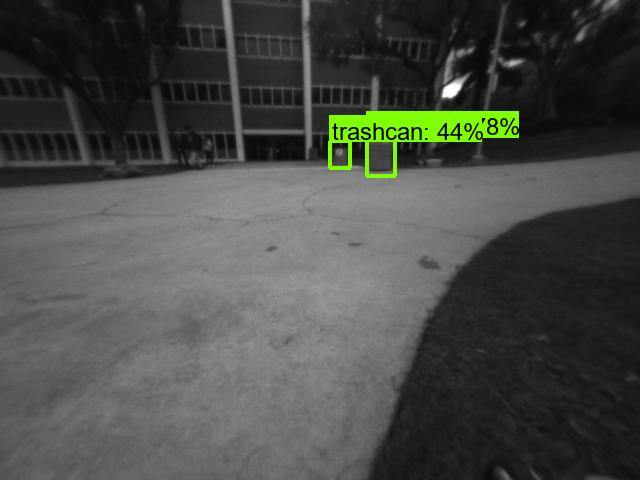trashcan: (370, 141, 392, 177), (334, 145, 348, 168)
